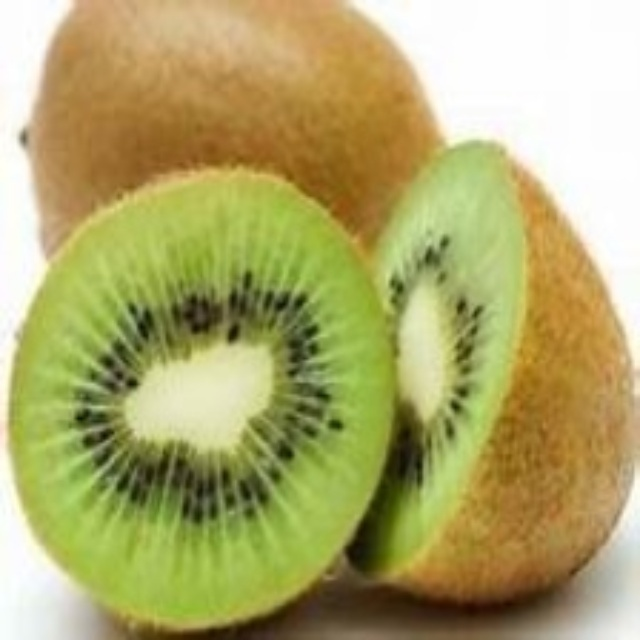kiwi: (8, 173, 375, 631), (325, 136, 639, 605), (28, 5, 446, 292)
